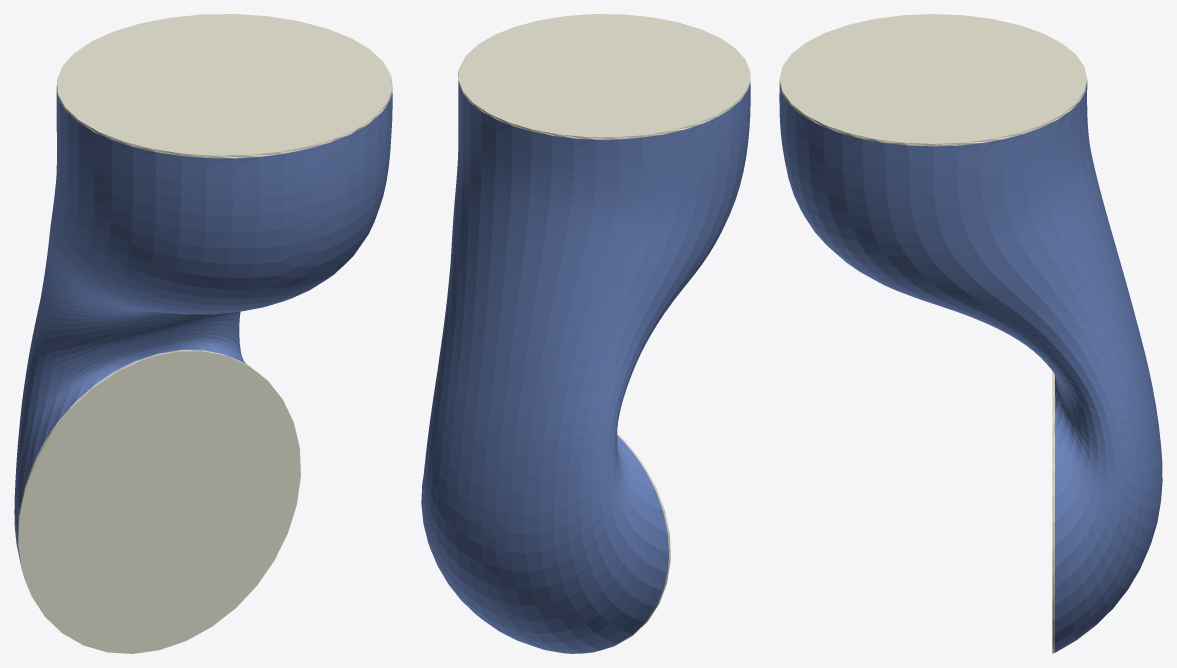
Rendered from left_arm5.dae.
3 renders of one model, left to right at view 1: azimuth 30°, elevation 25°; view 2: azimuth 150°, elevation 25°; view 3: azimuth 270°, elevation 25°, orthographic. The views are drawn at different scales.
Parts seen in each view (by area): view 1: left-lwr-3-link56_iv_MatrixTransform_Group__Geometry_0, left-lwr-3-link56_iv_MatrixTransform_Group__Geometry_1, left-lwr-3-link56_iv_MatrixTransform_Group__Geometry_2; view 2: left-lwr-3-link56_iv_MatrixTransform_Group__Geometry_0, left-lwr-3-link56_iv_MatrixTransform_Group__Geometry_2, left-lwr-3-link56_iv_MatrixTransform_Group__Geometry_1; view 3: left-lwr-3-link56_iv_MatrixTransform_Group__Geometry_0, left-lwr-3-link56_iv_MatrixTransform_Group__Geometry_2, left-lwr-3-link56_iv_MatrixTransform_Group__Geometry_1.
Boxes of the visible parts, box(x1,y1,x2,y2) form: left-lwr-3-link56_iv_MatrixTransform_Group__Geometry_0: box(14, 88, 392, 556); left-lwr-3-link56_iv_MatrixTransform_Group__Geometry_1: box(17, 350, 300, 653); left-lwr-3-link56_iv_MatrixTransform_Group__Geometry_2: box(56, 14, 392, 158); left-lwr-3-link56_iv_MatrixTransform_Group__Geometry_0: box(421, 82, 750, 653); left-lwr-3-link56_iv_MatrixTransform_Group__Geometry_2: box(458, 14, 750, 139); left-lwr-3-link56_iv_MatrixTransform_Group__Geometry_1: box(566, 434, 670, 653); left-lwr-3-link56_iv_MatrixTransform_Group__Geometry_0: box(779, 82, 1162, 652); left-lwr-3-link56_iv_MatrixTransform_Group__Geometry_2: box(779, 14, 1087, 146); left-lwr-3-link56_iv_MatrixTransform_Group__Geometry_1: box(1052, 371, 1054, 653).
Size of the model in its own units: 0.1191 by 0.1482 by 0.2395.
